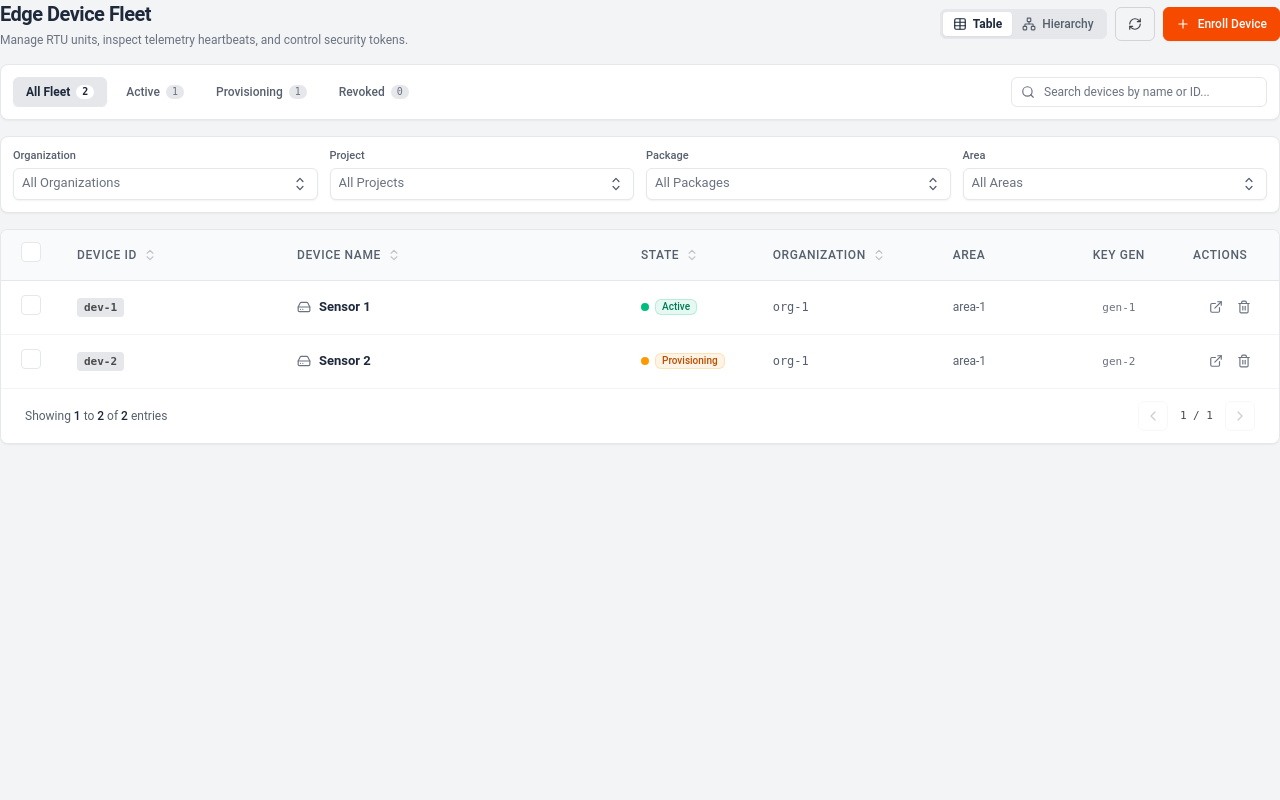
Test: DeviceListView › opens enroll device modal on enroll button click and validates required fields
This screenshot has width=1280, height=800.
Click the button with test id "enroll-device-btn".
click(1221, 24)  # box [1163,7,1279,41]
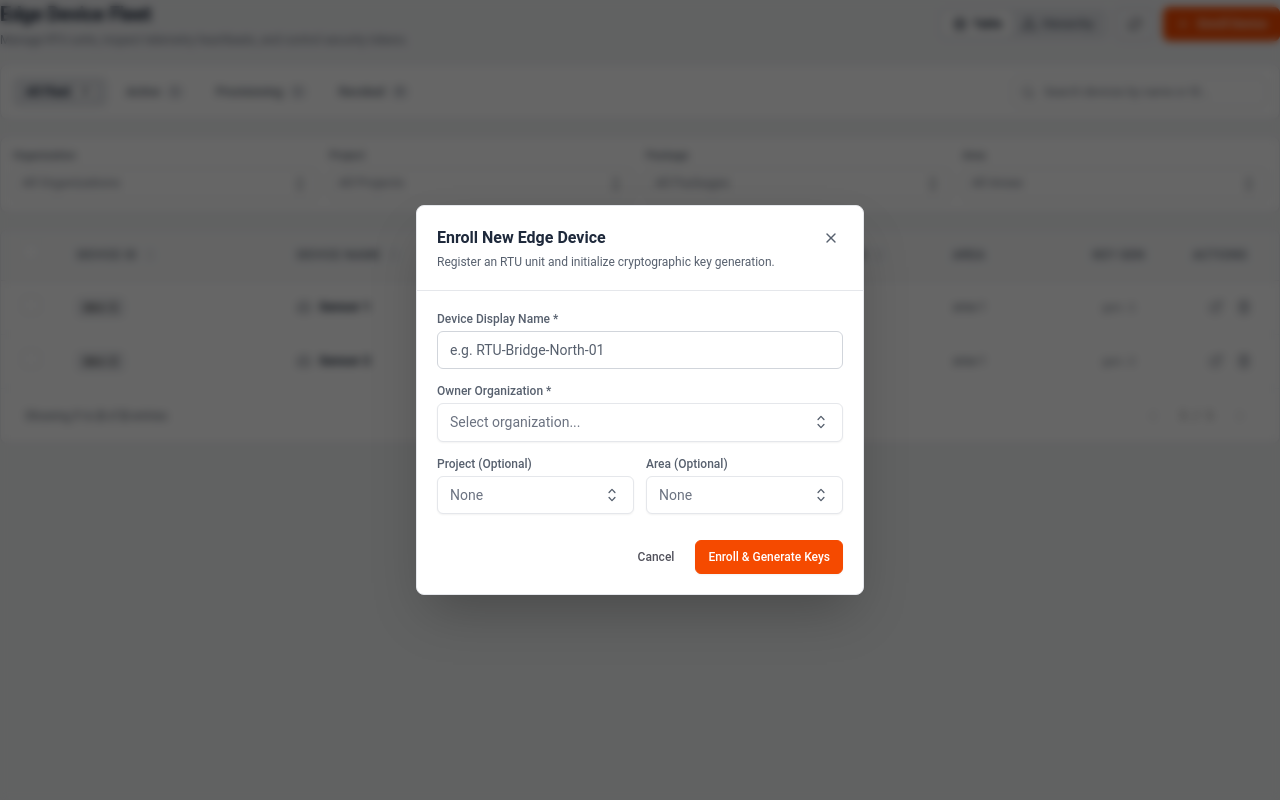
Check: the text "Enroll New Edge Device" is shown, box [437,228,606,248]
Check: the form is shown
Submit the form, box [437,312,843,574]
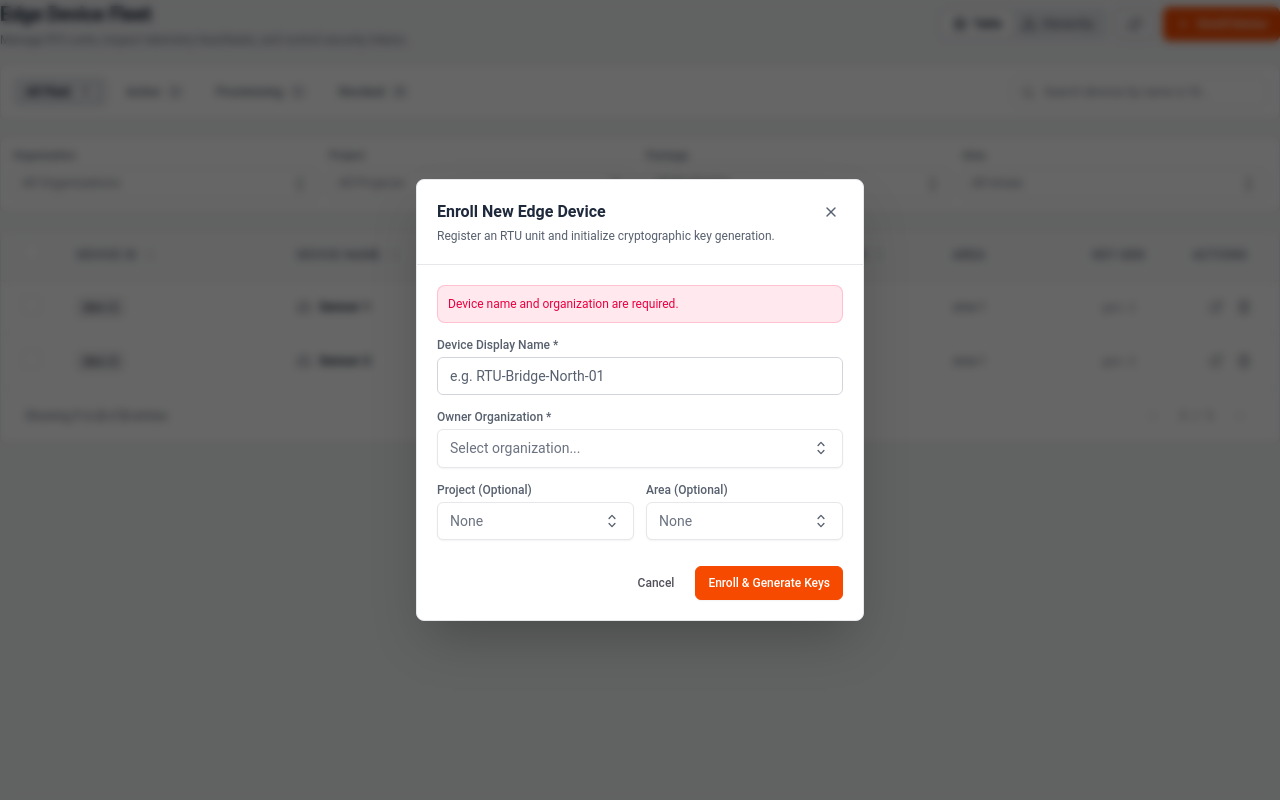
Check: the text "Device name and organization are required." is shown, box [437,286,843,324]
